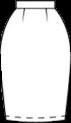Hemline: (6, 119, 65, 122)
Waistline: (16, 7, 54, 9), (16, 0, 54, 1)
